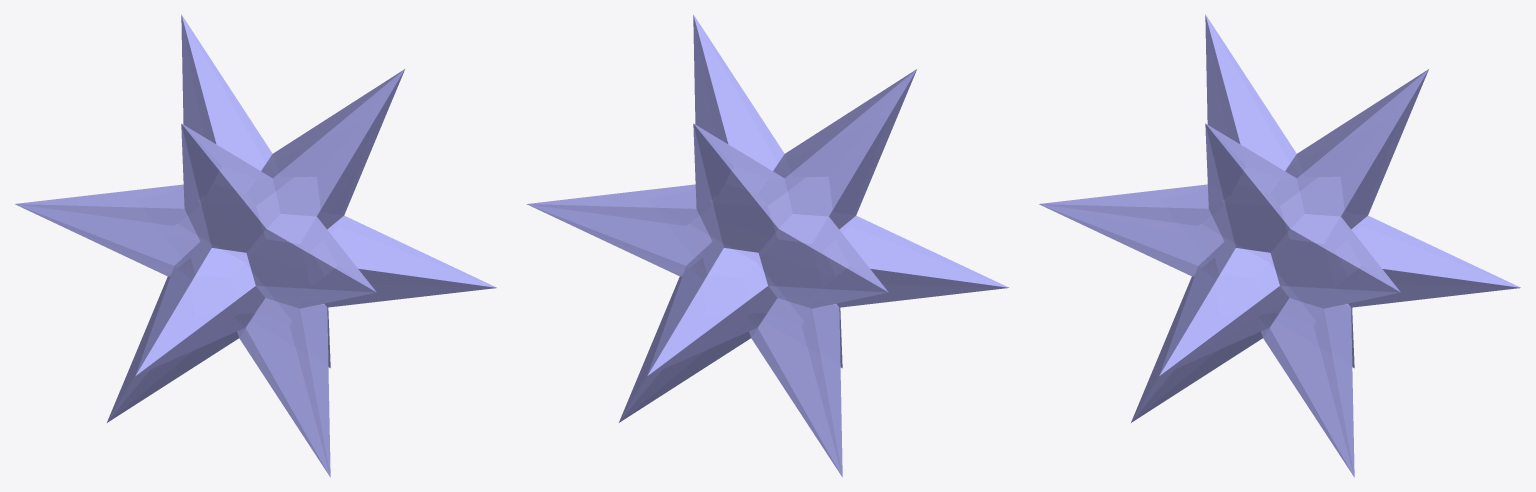
File: ico_kites.obj
The picture shows the model from 3 angles, left to right: view 1: azimuth 30°, elevation 25°; view 2: azimuth 150°, elevation 25°; view 3: azimuth 270°, elevation 25°; orthographic projection.
Bounding box in the file's own units: 16.82 × 15.72 × 19.42.
